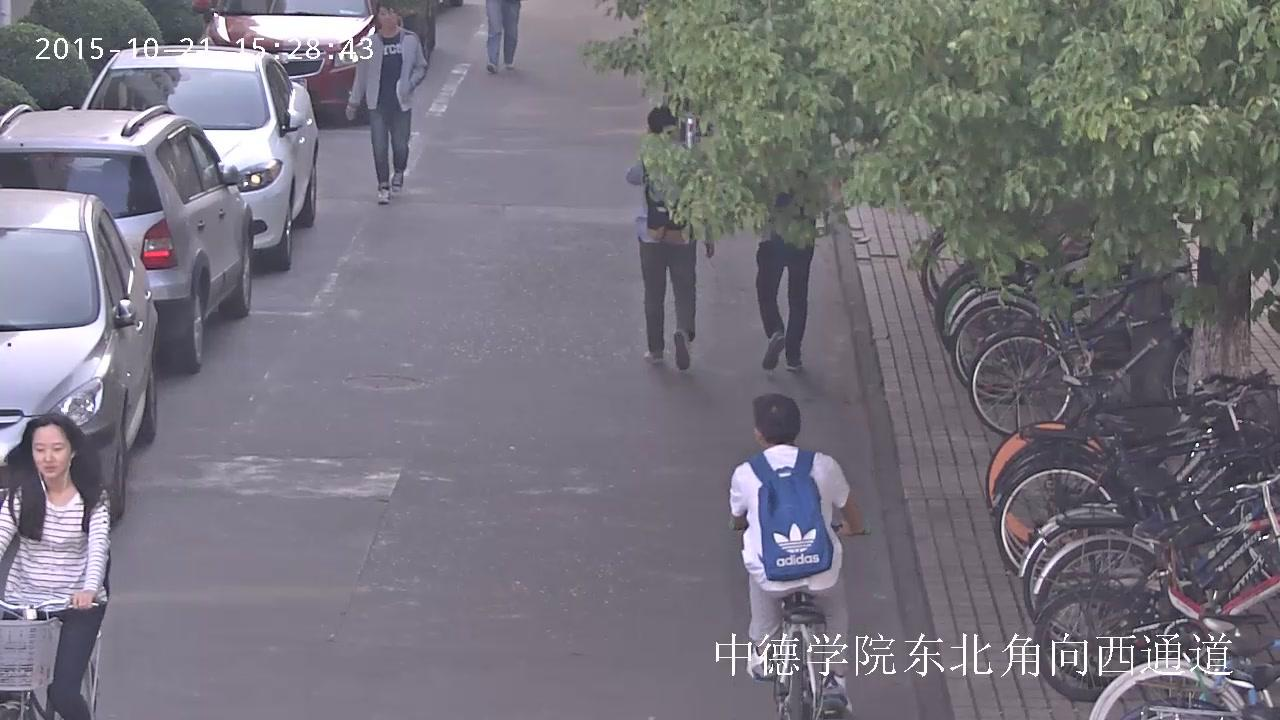person: (729, 393, 866, 720), (729, 394, 865, 719), (0, 413, 113, 720), (0, 413, 112, 720), (625, 105, 715, 372), (344, 0, 426, 203), (755, 195, 816, 373), (485, 0, 520, 74)
